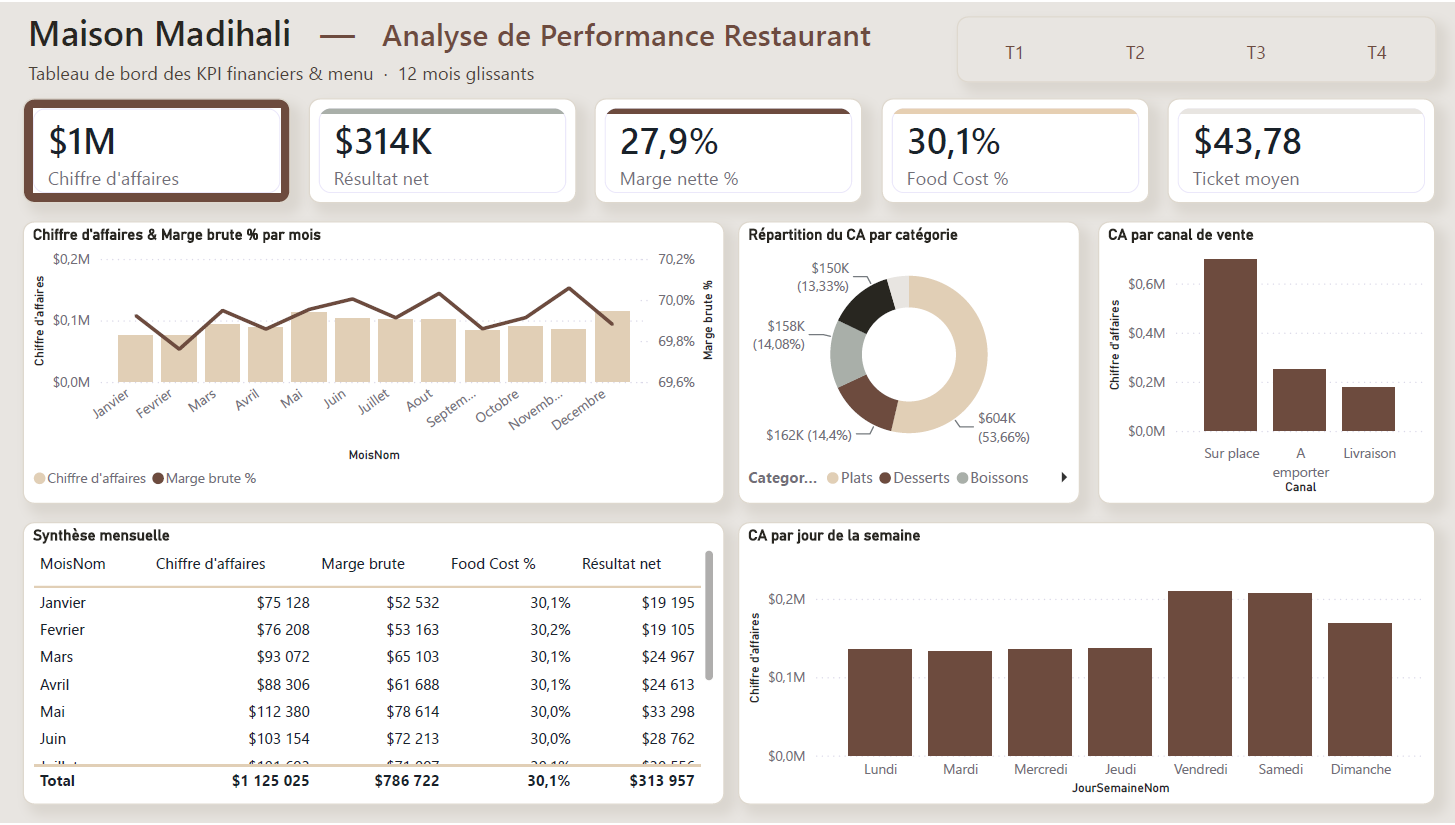

What the dashboard file says about the page in this screenshot:
{"tool":"powerbi","page":{"name":"Vue d'ensemble","canvas":[1280,720],"ordinal":0},"visuals":[{"type":"textbox","box":[20.1,0,800,56],"z":0},{"type":"textbox","box":[20.1,46.3,899.7,37.6],"z":1000},{"type":"advancedSlicerVisual","title":"Trimestre","fields":{"Values":["Calendrier.Trimestre"]},"box":[840.2,12.2,420.5,57.7],"z":2000},{"type":"cardVisual","fields":{"Data":["Ventes.Chiffre d'affaires"]},"box":[20,84,235.2,92],"z":4000},{"type":"cardVisual","fields":{"Data":["Ventes.Résultat net"]},"box":[271.2,84,235.2,92],"z":5000},{"type":"cardVisual","fields":{"Data":["Ventes.Marge nette %"]},"box":[522.4,84,235.2,92],"z":6000},{"type":"cardVisual","fields":{"Data":["Ventes.Food Cost %"]},"box":[773.6,84,235.2,92],"z":7000},{"type":"cardVisual","fields":{"Data":["Ventes.Ticket moyen"]},"box":[1024.8,84,235.2,92],"z":8000},{"type":"lineClusteredColumnComboChart","title":"Chiffre d''affaires & Marge brute % par mois","fields":{"Category":["Calendrier.MoisNom"],"Y":["Ventes.Chiffre d'affaires"],"Y2":["Ventes.Marge brute %"]},"box":[20,192,616,248],"z":9000},{"type":"donutChart","title":"Répartition du CA par catégorie","fields":{"Category":["Menu.Categorie"],"Y":["Ventes.Chiffre d'affaires"]},"box":[648,192,300,248],"z":10000},{"type":"clusteredColumnChart","title":"CA par canal de vente","fields":{"Category":["Ventes.Canal"],"Y":["Ventes.Chiffre d'affaires"]},"box":[964,192,296,248],"z":11000},{"type":"tableEx","title":"Synthèse mensuelle","fields":{"Values":["Calendrier.MoisNom","Ventes.Chiffre d'affaires","Ventes.Marge brute","Ventes.Food Cost %","Ventes.Résultat net"]},"box":[20,456,616,248],"z":12000},{"type":"clusteredColumnChart","title":"CA par jour de la semaine","fields":{"Category":["Calendrier.JourSemaineNom"],"Y":["Ventes.Chiffre d'affaires"]},"box":[648,456,612,248],"z":13000}]}

Visuals, with their boxes in screenshot pixels (x1, y1, x2, y2), scaled from the page's 1280x720 canvas onto the 1455x825 screenshot:
textbox: l=23, t=0, r=932, b=64
textbox: l=23, t=53, r=1046, b=96
"Trimestre" advancedSlicerVisual: l=955, t=14, r=1433, b=80
cardVisual - Ventes.Chiffre d'affaires: l=23, t=96, r=290, b=202
cardVisual - Ventes.Résultat net: l=308, t=96, r=576, b=202
cardVisual - Ventes.Marge nette %: l=594, t=96, r=861, b=202
cardVisual - Ventes.Food Cost %: l=879, t=96, r=1147, b=202
cardVisual - Ventes.Ticket moyen: l=1165, t=96, r=1432, b=202
"Chiffre d''affaires & Marge brute % par mois" lineClusteredColumnComboChart: l=23, t=220, r=723, b=504
"Répartition du CA par catégorie" donutChart: l=737, t=220, r=1078, b=504
"CA par canal de vente" clusteredColumnChart: l=1096, t=220, r=1432, b=504
"Synthèse mensuelle" tableEx: l=23, t=522, r=723, b=807
"CA par jour de la semaine" clusteredColumnChart: l=737, t=522, r=1432, b=807
